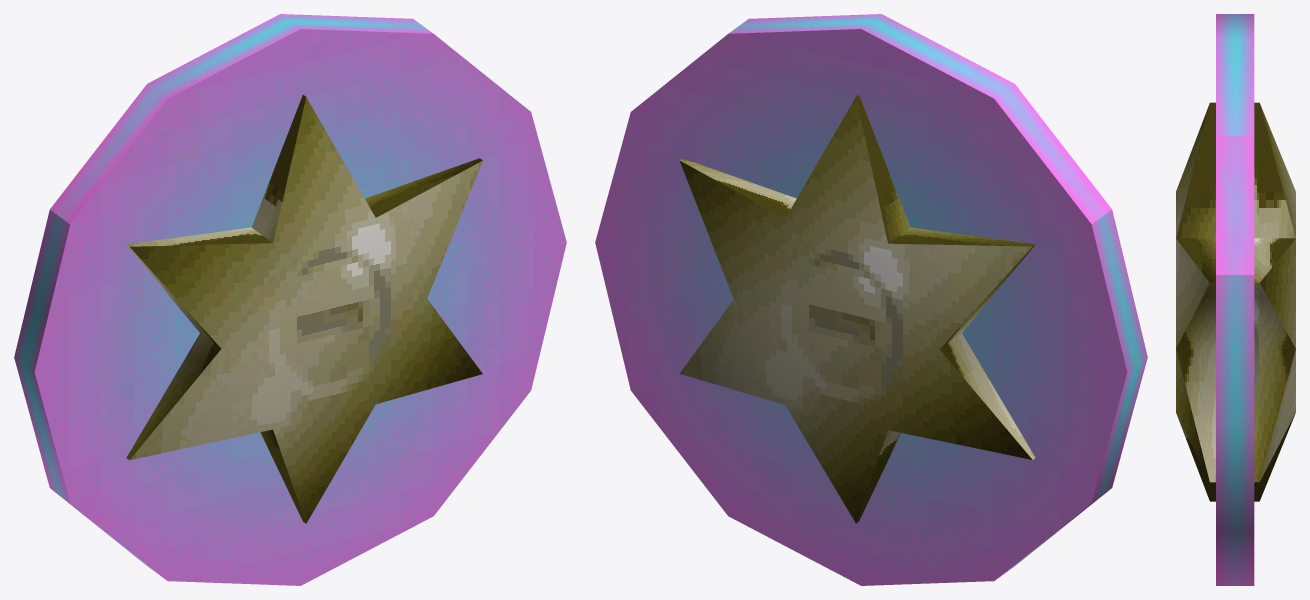
Rendered from Bribe.fbx.
3 views of the same model, side by side, from view 1: azimuth 30°, elevation 25°; view 2: azimuth 150°, elevation 25°; view 3: azimuth 270°, elevation 25° (orthographic). The views are drawn at different scales.
Visible parts, largest first — view 1: bribe; view 2: bribe; view 3: bribe.
Part boxes in pixels (x1,y1,x2,y2): bribe: [14, 14, 566, 585]; bribe: [595, 14, 1147, 585]; bribe: [1176, 14, 1295, 585].
Size of the model in its own units: 60 by 60 by 12.53.
2 materials, 2 textured.
